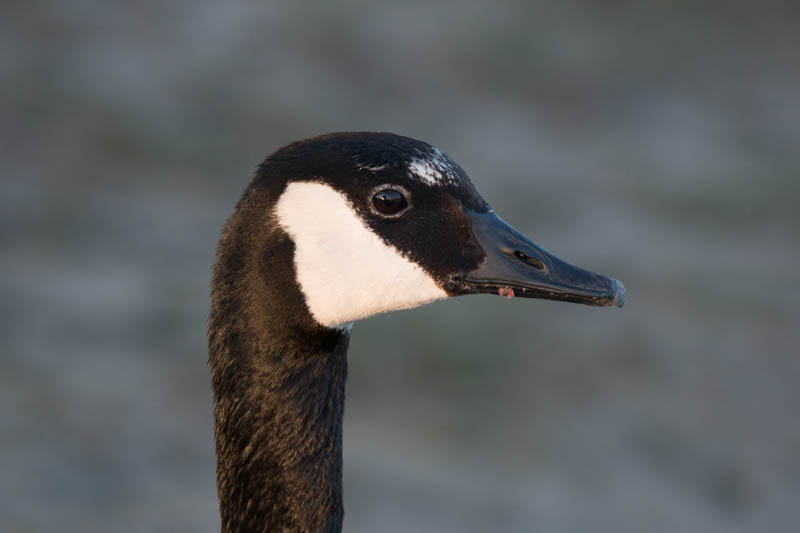goose-head: (210, 129, 629, 330)
